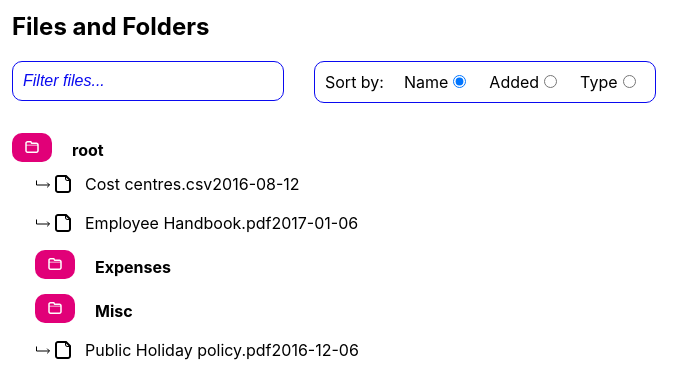
Scenario: ./components/directory › should return nothing if unable to find any files
This screenshot has width=673, height=377.
In the field with test id "filterInput": (148,81) [12, 61, 284, 101], type "zzzzz"
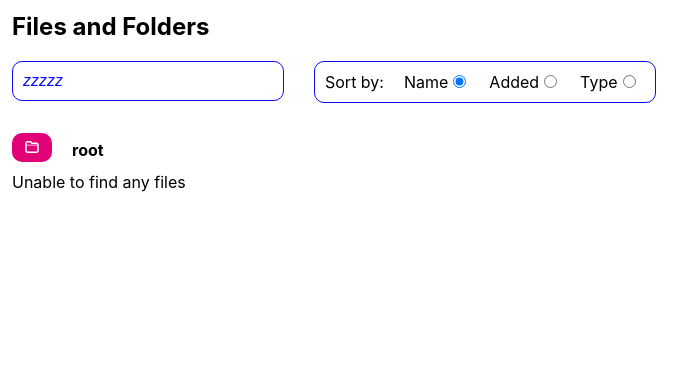
Check: the text "Unable to find any files" is shown, box [12, 172, 186, 192]
